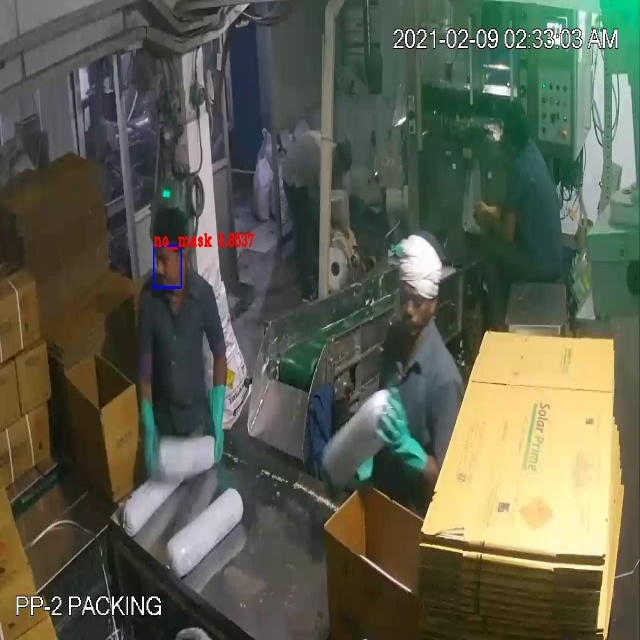Guantes: (371, 384, 432, 495), (129, 376, 167, 504), (201, 357, 231, 482)
Sin_guantes: (469, 198, 525, 243)
